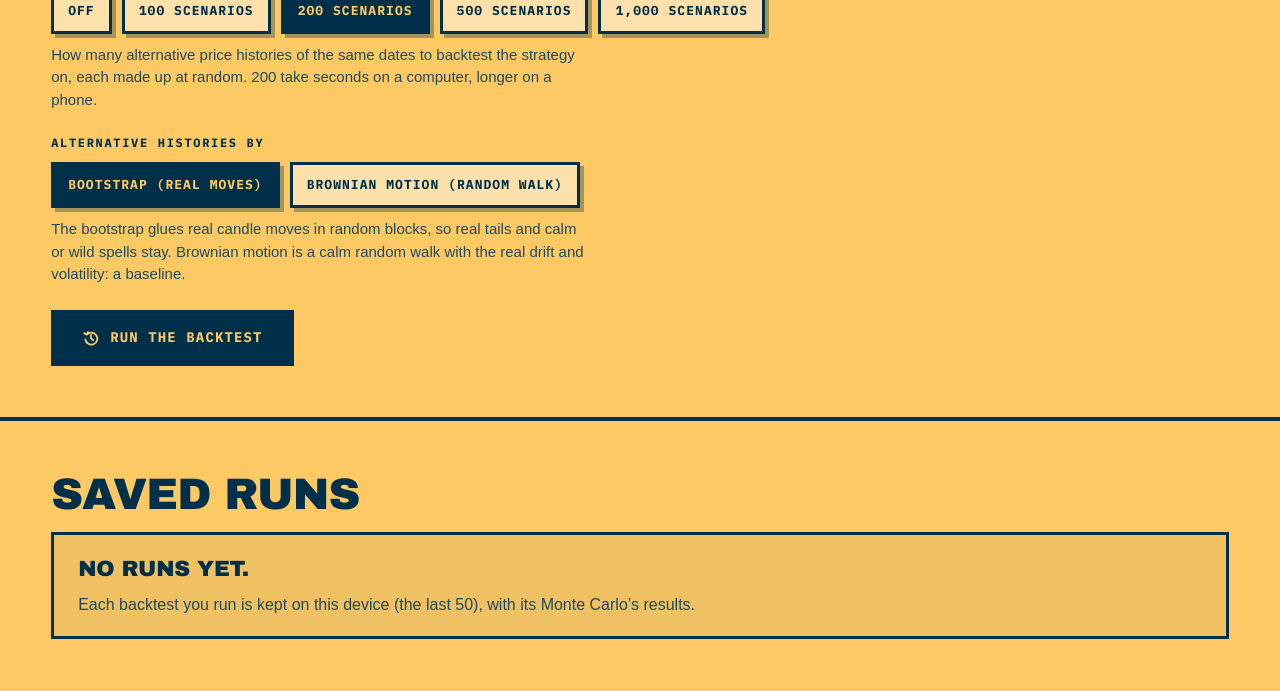
Test: Backtest › copies the bot’s candles to this device and backtests them here, then on 200 alternative price histories by bootstrap
(page scrolled)
Click the button "Run the backtest" at (172, 338), box [51,310,294,366]
(page scrolled)
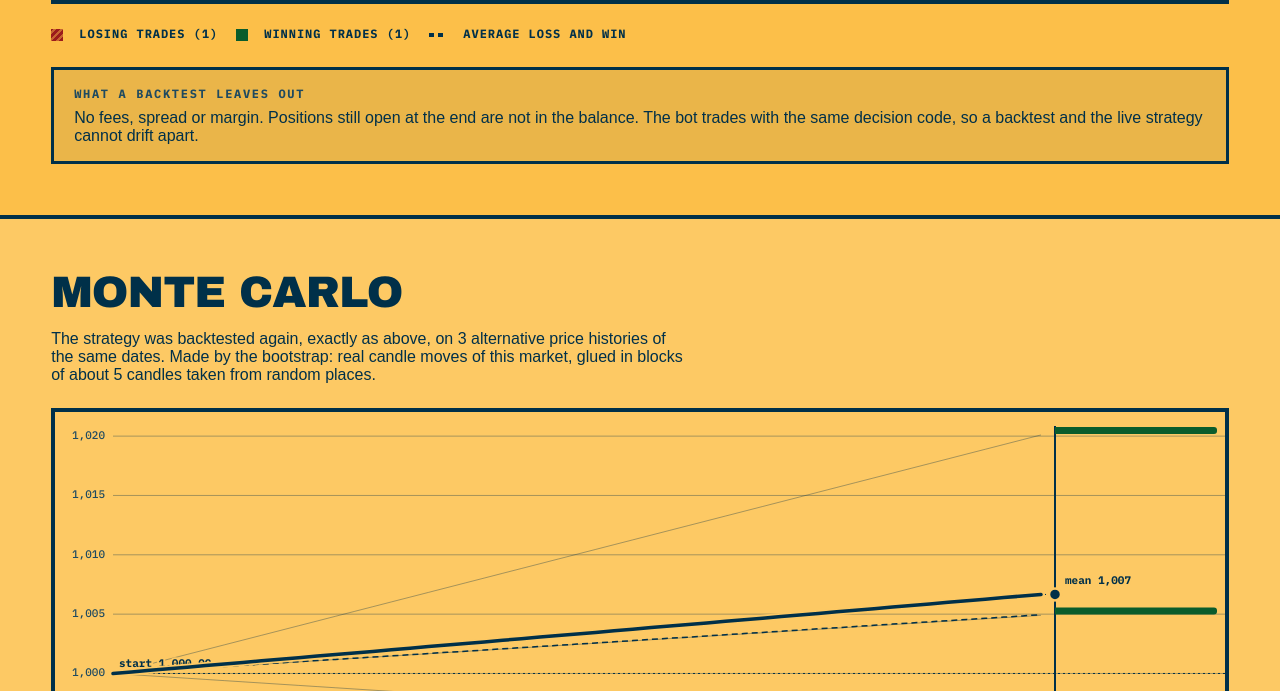
Expected: the heading "Monte Carlo" is shown, [51,270,402,314]
